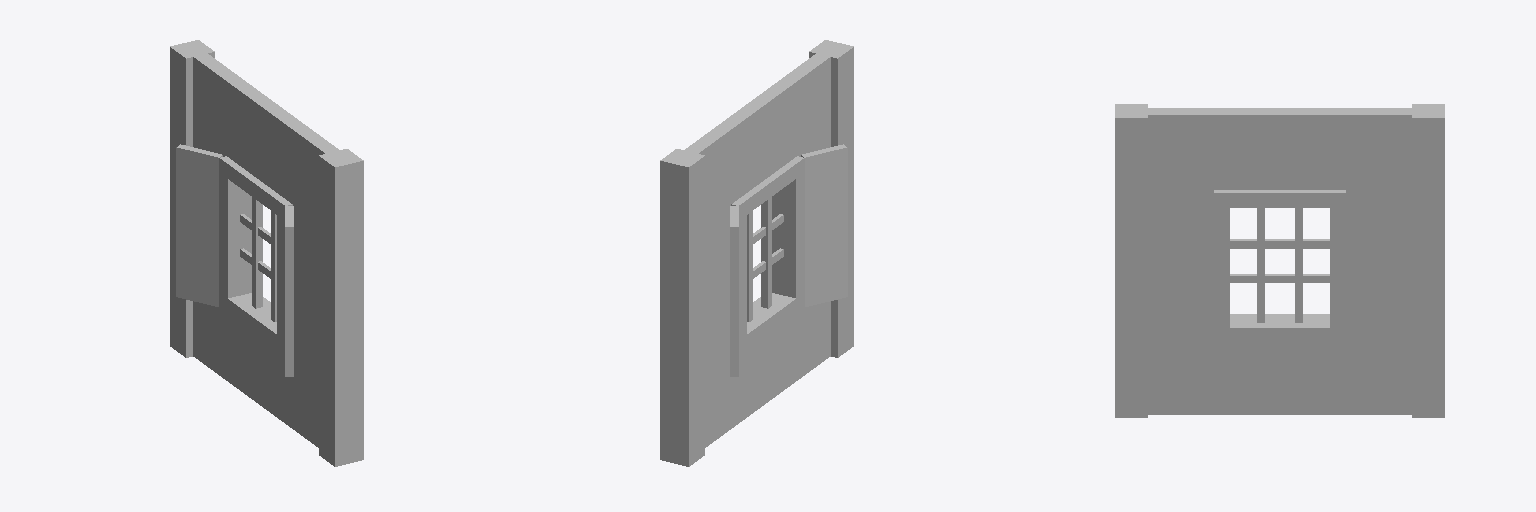
Rendered from wallWindowShutters.obj.
3 renders of one model, left to right at view 1: azimuth 30°, elevation 25°; view 2: azimuth 150°, elevation 25°; view 3: azimuth 270°, elevation 25°, orthographic.
Visible parts, largest first — view 1: wallWindowShutters, shutter, detail; view 2: wallWindowShutters, shutter, detail; view 3: wallWindowShutters, detail.
Part boxes in pixels (x1,y1,x2,y2): wallWindowShutters: (170, 40, 363, 466); shutter: (176, 144, 293, 376); detail: (240, 197, 276, 321); wallWindowShutters: (660, 40, 853, 466); shutter: (730, 144, 847, 376); detail: (747, 197, 783, 321); wallWindowShutters: (1115, 104, 1444, 417); detail: (1230, 208, 1329, 322).
Size of the model in its own units: 0.175 by 1 by 1.